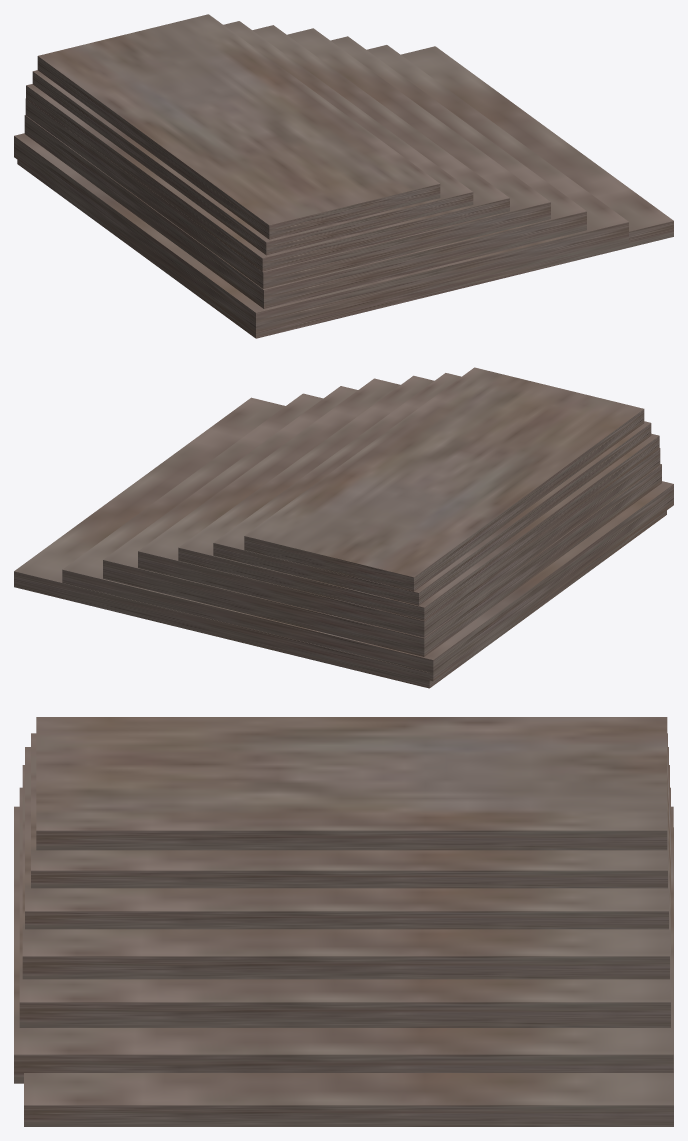
File: Stairs 1.fbx
The picture shows the model from 3 angles, top to bottom: view 1: azimuth 30°, elevation 25°; view 2: azimuth 150°, elevation 25°; view 3: azimuth 270°, elevation 25°; orthographic projection. The views are drawn at different scales.
Visible parts, largest first — view 1: Cube.006, Cube.001, Cube.002, Cube.003, Cube.004, Cube, Cube.005; view 2: Cube.006, Cube.001, Cube, Cube.003, Cube.002, Cube.004, Cube.005; view 3: Cube.006, Cube, Cube.003, Cube.002, Cube.001, Cube.004, Cube.005.
Boxes of the visible parts, bbox=[...] form: Cube.006: bbox=[37, 14, 440, 239]; Cube.001: bbox=[14, 45, 628, 334]; Cube.002: bbox=[24, 36, 586, 308]; Cube.003: bbox=[25, 28, 550, 288]; Cube.004: bbox=[26, 25, 509, 271]; Cube: bbox=[17, 46, 673, 338]; Cube.005: bbox=[32, 21, 473, 255]; Cube.006: bbox=[244, 367, 644, 591]; Cube.001: bbox=[62, 393, 673, 681]; Cube: bbox=[14, 397, 666, 688]; Cube.003: bbox=[138, 378, 660, 637]; Cube.002: bbox=[103, 386, 661, 656]; Cube.004: bbox=[178, 375, 659, 620]; Cube.005: bbox=[213, 373, 651, 605]; Cube.006: bbox=[36, 717, 667, 850]; Cube: bbox=[24, 827, 673, 1126]; Cube.003: bbox=[22, 765, 669, 979]; Cube.002: bbox=[19, 787, 670, 1027]; Cube.001: bbox=[14, 806, 673, 1083]; Cube.004: bbox=[25, 747, 668, 929]; Cube.005: bbox=[31, 733, 667, 888].
Size of the model in its own units: 765 by 183 by 761.
